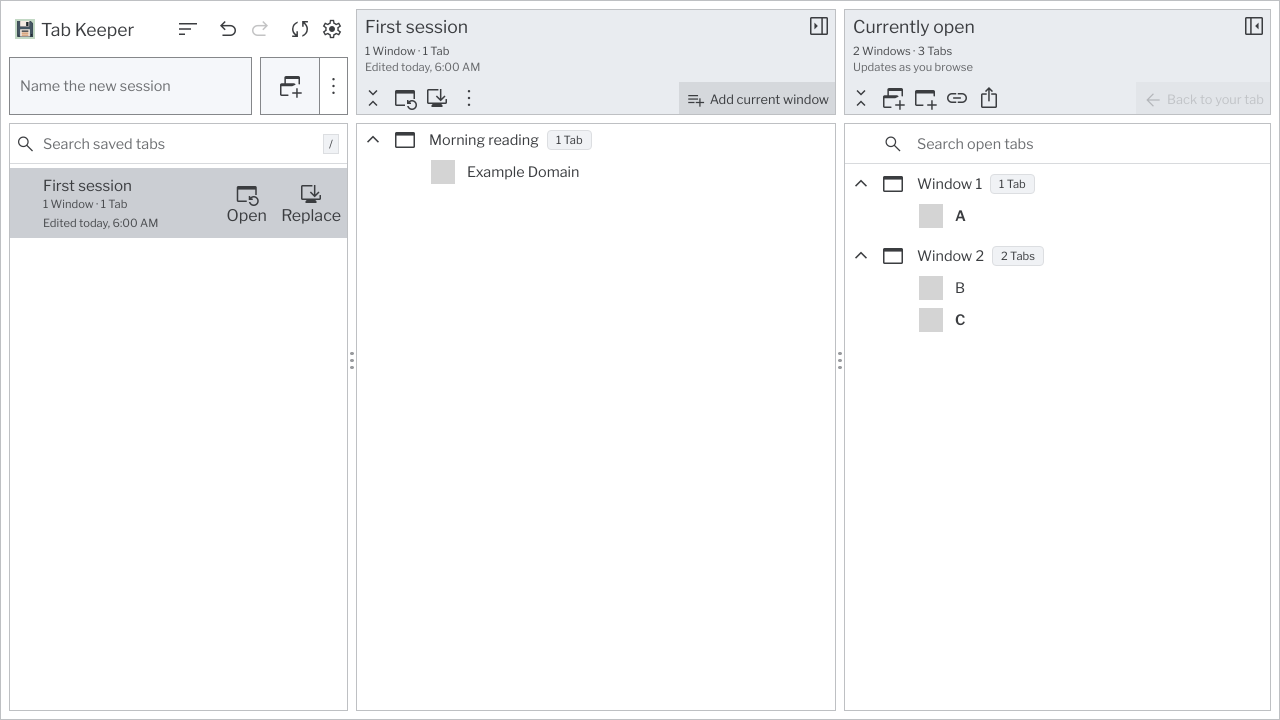
it: where the button shows › renaming: the save tick takes the slot for the whole edit
This screenshot has width=1280, height=720.
Click the button with aria-label "Rename session: First session" at (416, 26), box [357, 10, 476, 42]
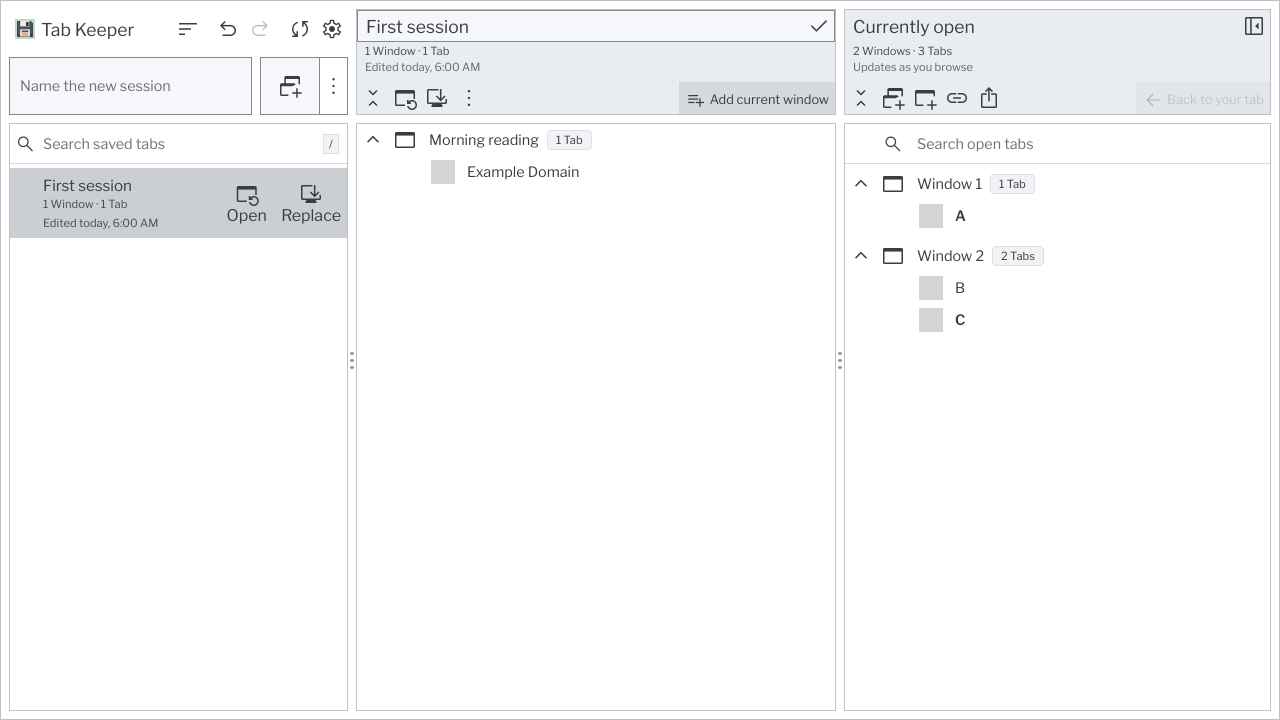
Check: the button named "Save changes" is shown, box [807, 12, 831, 40]
